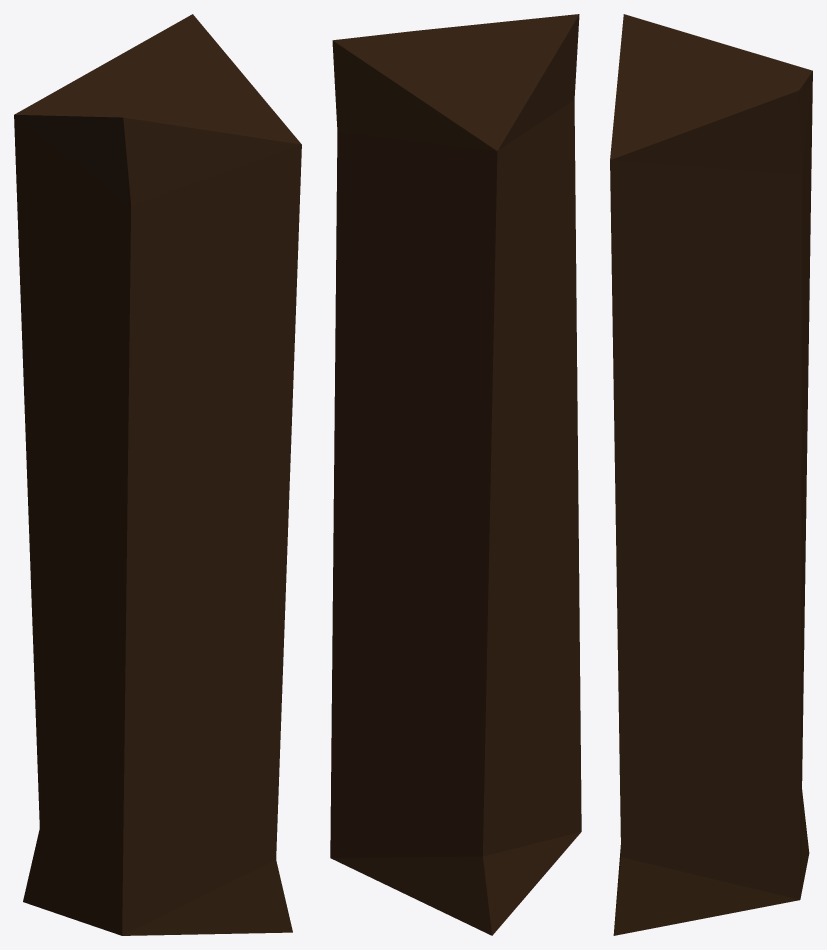
File: fence_end.obj
3 renders of one model, left to right at view 1: azimuth 30°, elevation 25°; view 2: azimuth 150°, elevation 25°; view 3: azimuth 270°, elevation 25°, orthographic.
Visible parts, largest first — view 1: g_Text.001_CUText.076; view 2: g_Text.001_CUText.076; view 3: g_Text.001_CUText.076.
Boxes of the visible parts, box(x1,y1,x2,y2) form: g_Text.001_CUText.076: box(14, 14, 301, 935); g_Text.001_CUText.076: box(330, 14, 581, 935); g_Text.001_CUText.076: box(610, 14, 812, 935).
Size of the model in its own units: 0.2205 by 0.9678 by 0.2114.
